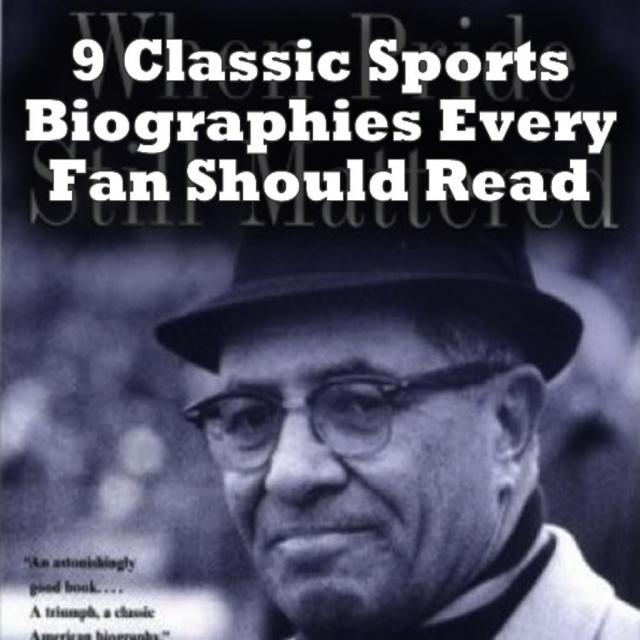nomask: (214, 332, 490, 632)
